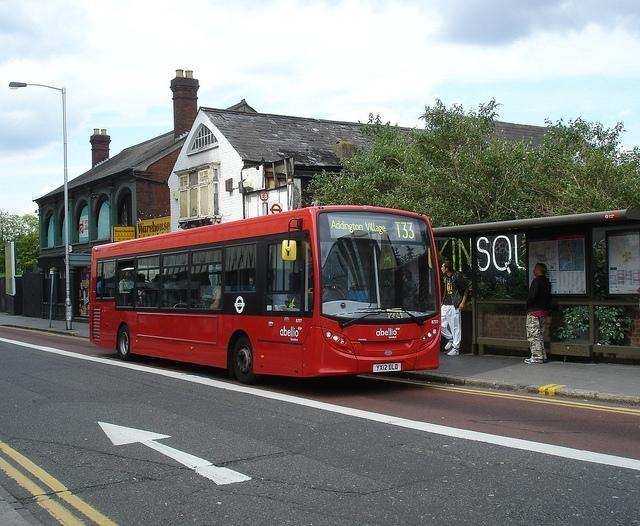bus: (88, 206, 443, 387)
